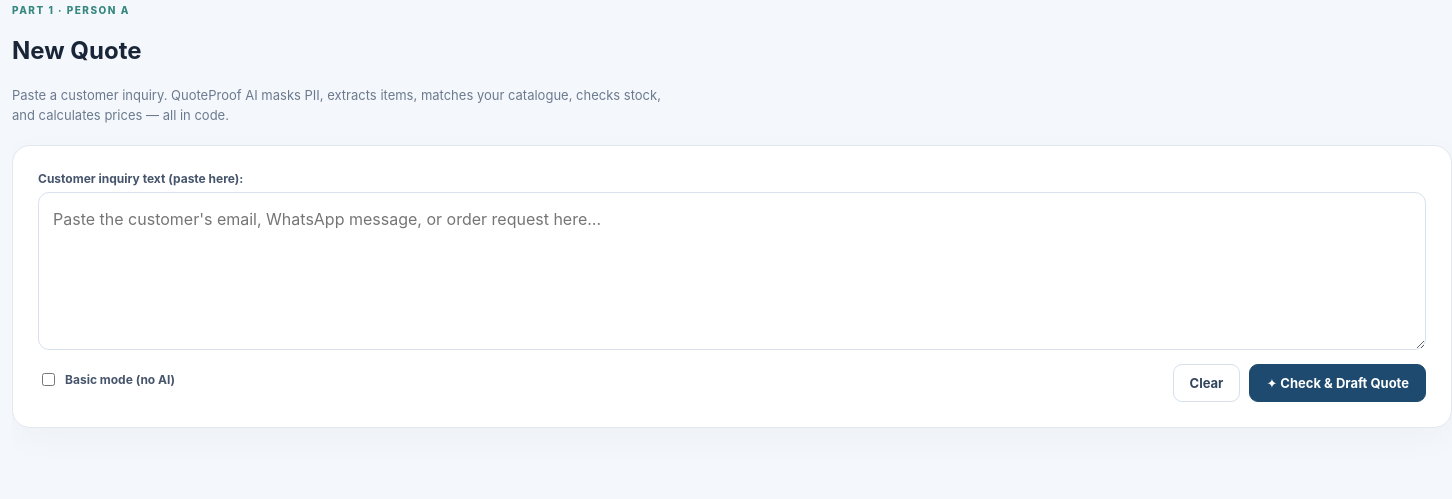
Scenario: NewQuotePage › shows error when inquiry is empty and draft is clicked
Click the button "✦ Check & Draft Quote".
click(1338, 383)  # box [1249,364,1426,402]
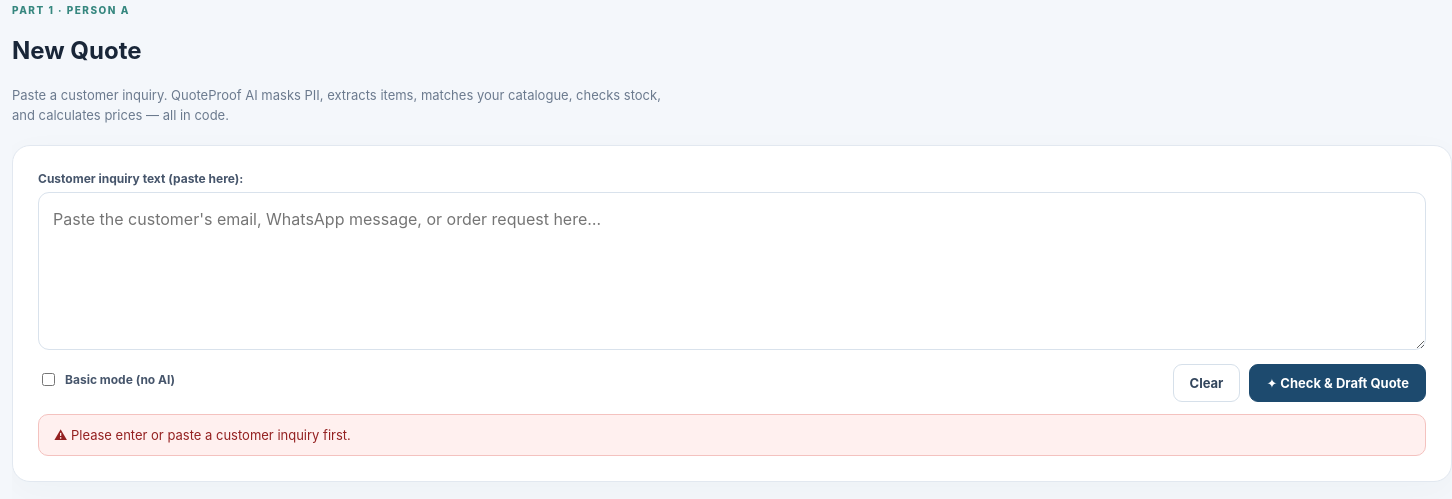
Expected: the text "⚠ Please enter or paste a customer inquiry first." is shown, [38,414,1426,456]
